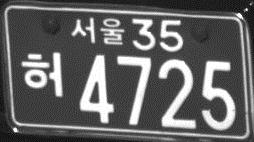2: (158, 58, 197, 130)
3: (130, 16, 157, 52)
4: (78, 52, 114, 126)
5: (200, 58, 237, 131), (159, 18, 183, 52)
7: (114, 54, 154, 126)
서울_O: (71, 16, 127, 45)
허: (20, 51, 65, 98)
